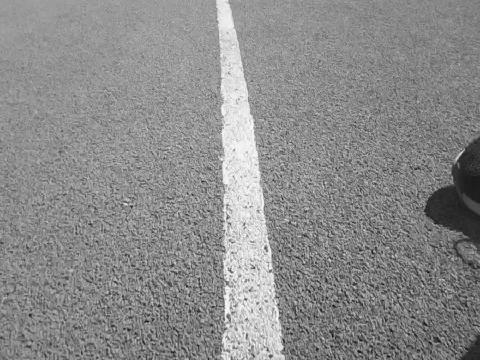Lines: (214, 0, 286, 360)
